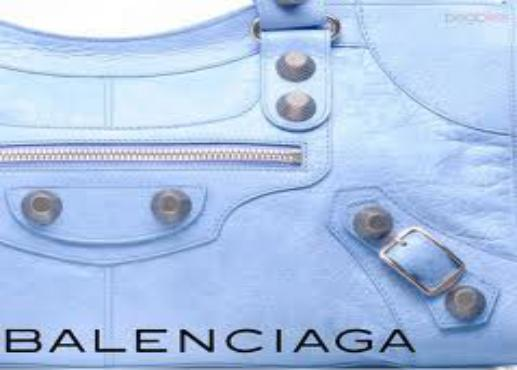BALENCIAGA: (2, 325, 415, 352)
